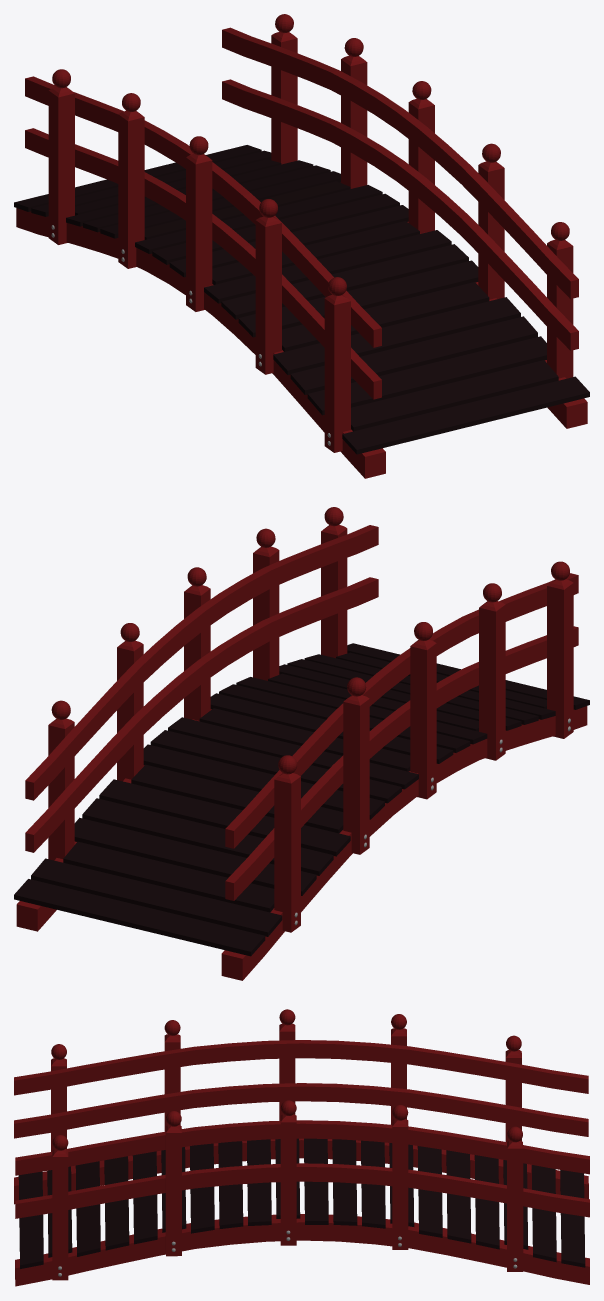
The model's file is puente.obj.
3 views of the same model, one above another, from view 1: azimuth 30°, elevation 25°; view 2: azimuth 150°, elevation 25°; view 3: azimuth 270°, elevation 25° (orthographic). The views are drawn at different scales.
Parts seen in each view (by area): view 1: Cube.002; view 2: Cube.002; view 3: Cube.002.
Part boxes in pixels (box(x1,y1,x2,y2)): Cube.002: box(14, 14, 589, 478); Cube.002: box(14, 507, 589, 980); Cube.002: box(14, 1009, 589, 1286).
Bounding box in the file's own units: 2.5 × 2.16 × 6.11.
